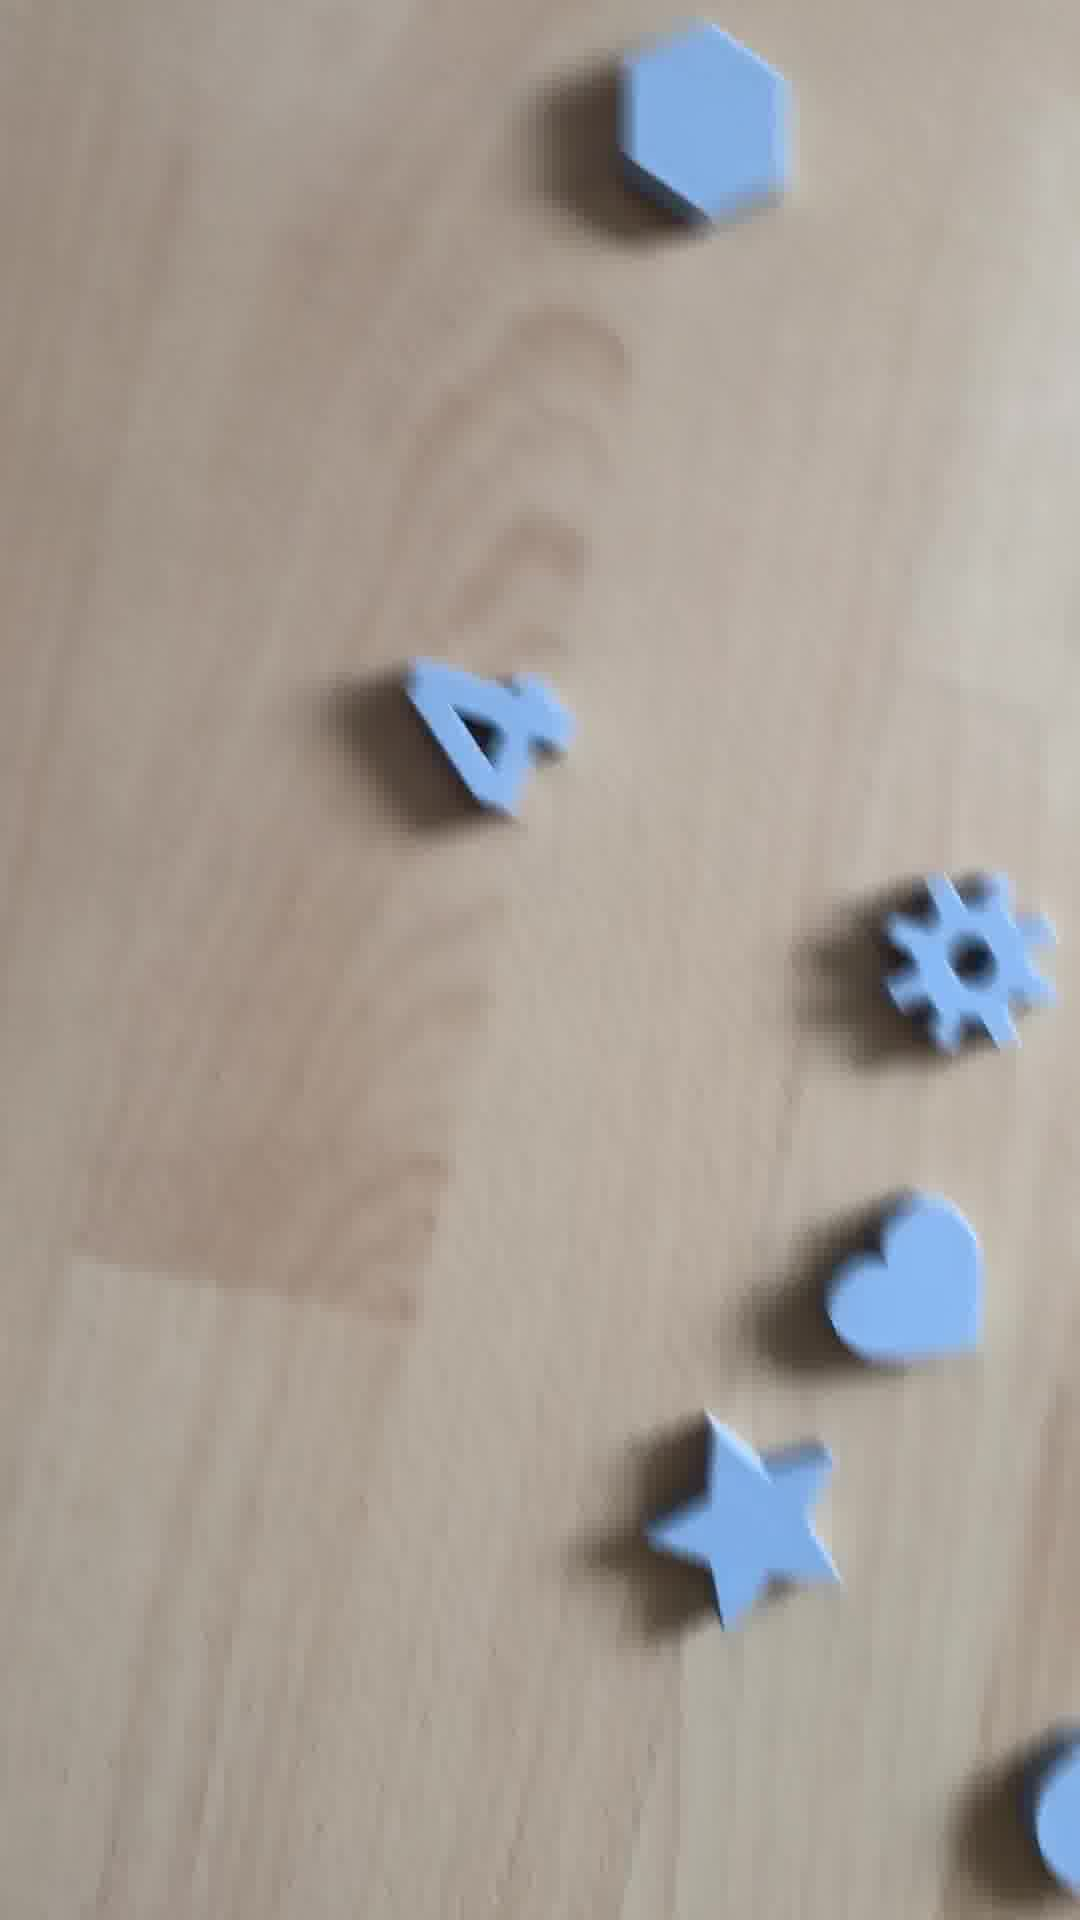Gray four: (406, 646, 572, 833)
Gray gear: (887, 876, 1064, 1065)
Gray heart: (829, 1199, 992, 1364)
Gray hexagon: (607, 24, 808, 220)
Gray star: (658, 1406, 855, 1625)
